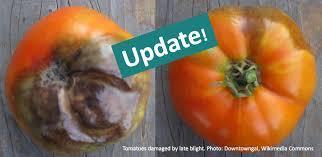tomato late blight: (5, 7, 147, 157), (170, 9, 315, 148)
